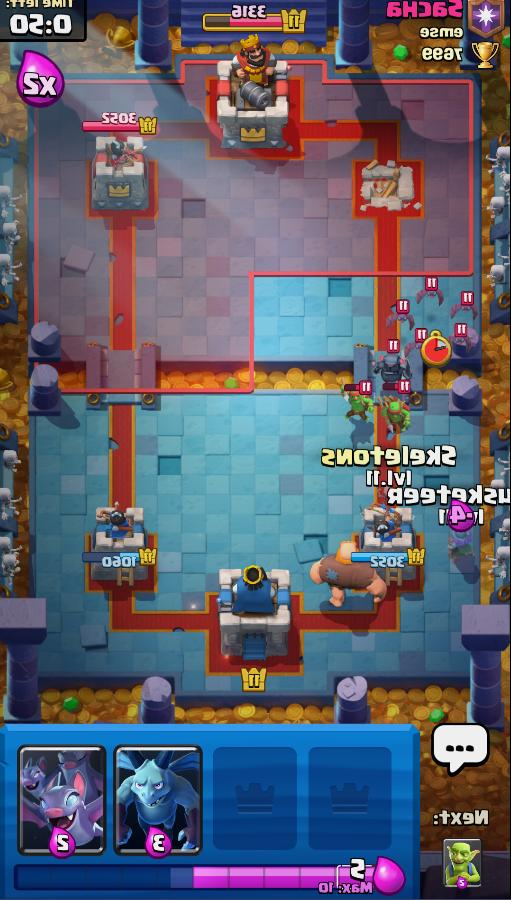bat: (380, 310, 419, 329), (410, 286, 447, 306), (445, 303, 481, 321), (444, 333, 474, 350), (400, 339, 423, 355)
geant: (310, 537, 392, 610)
gobelin_lances: (378, 396, 415, 433), (338, 392, 378, 425)
mini_PEKKA: (367, 353, 415, 385)
mousquetaire: (446, 524, 474, 566)
